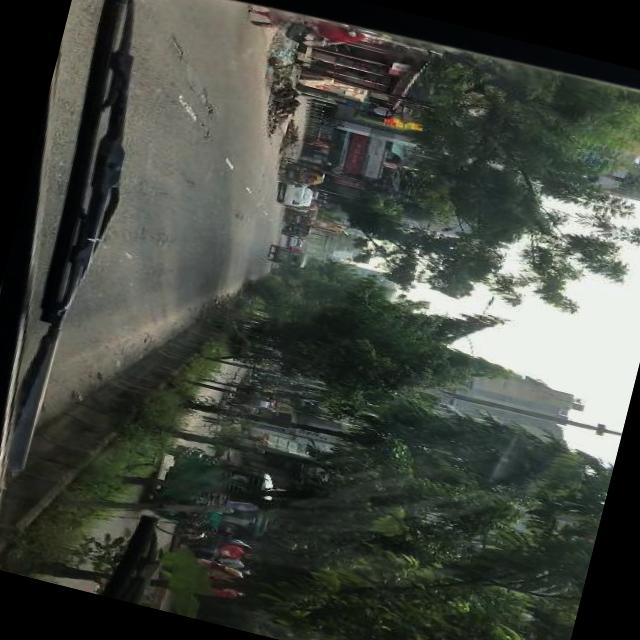car: (282, 180, 312, 209), (284, 222, 312, 239), (290, 234, 304, 247)
motorcycle: (141, 440, 277, 540), (152, 520, 257, 585), (276, 162, 322, 190), (267, 242, 308, 268), (283, 158, 325, 178), (283, 208, 311, 228)
